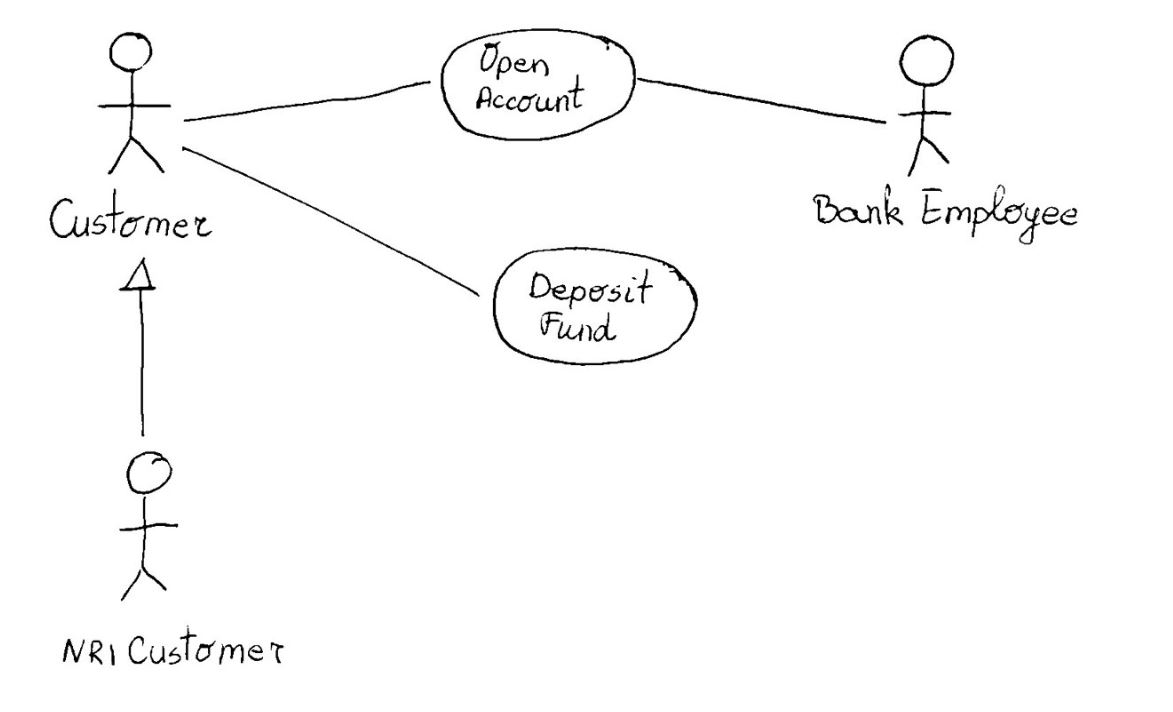actor: (97, 25, 170, 176), (112, 447, 178, 603), (890, 32, 958, 176)
association: (180, 144, 478, 297), (182, 71, 435, 126), (637, 77, 887, 126)
generalization: (119, 257, 163, 439)
text: (801, 181, 1091, 247), (522, 267, 663, 344), (53, 632, 295, 676), (40, 190, 221, 244), (473, 40, 589, 118)
use_case: (491, 245, 698, 365), (439, 27, 637, 144)
